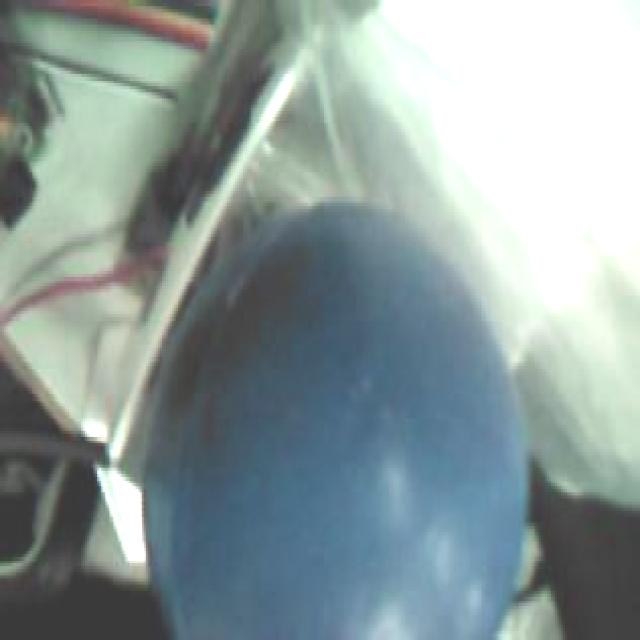BallPurple: (141, 201, 529, 640)
